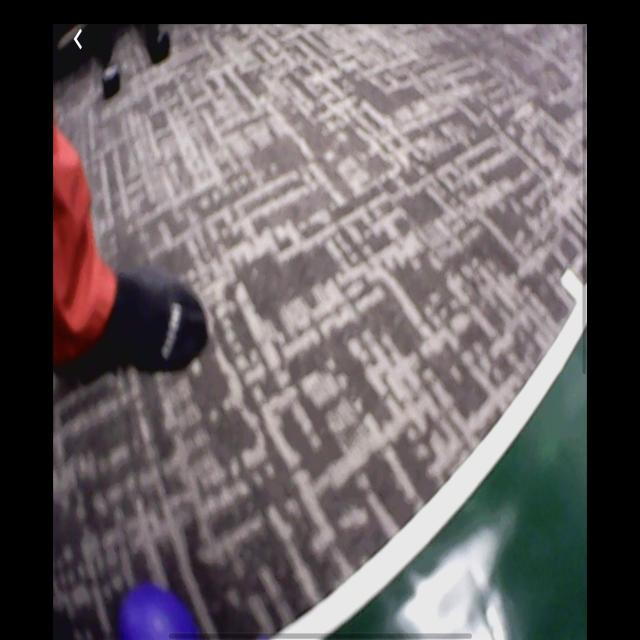ball: (121, 581, 200, 640)
